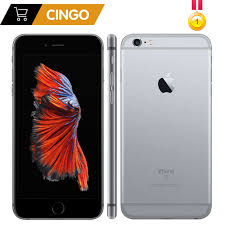iphone: (118, 31, 214, 217)
iphone6: (9, 32, 105, 218), (118, 33, 214, 219)
